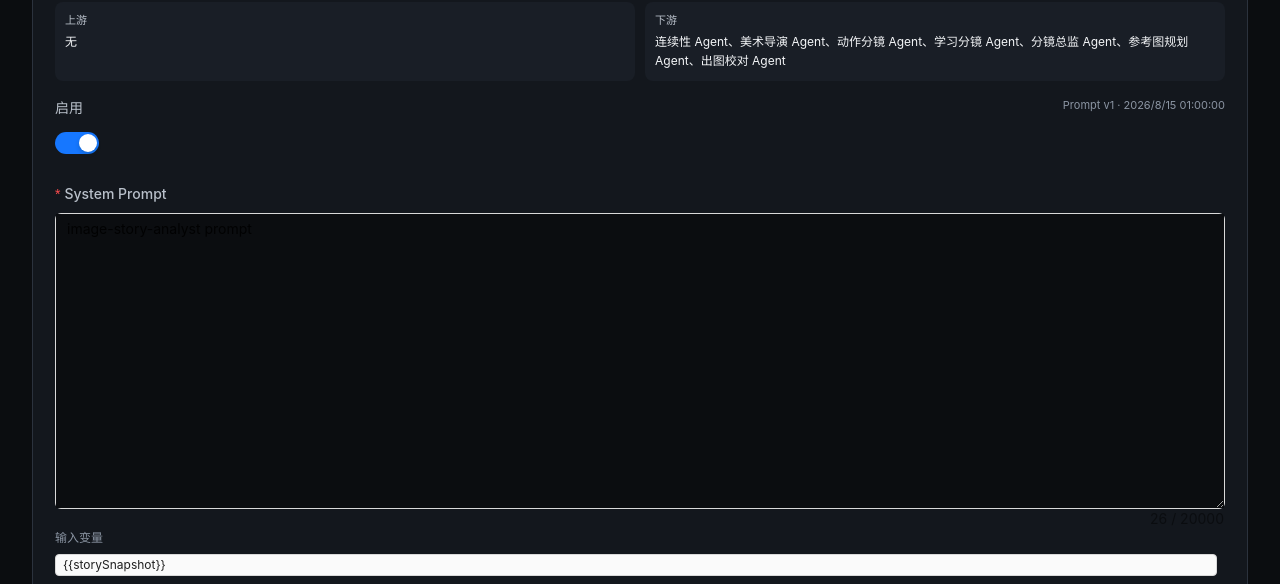
it: ImageAgentFlowPage › protects dirty edits when switching tabs and discards only after confirmation
(page scrolled)
In the text box named "System Prompt": (640, 360) 56,214 -> 1224,508, type " changed"
(page scrolled)
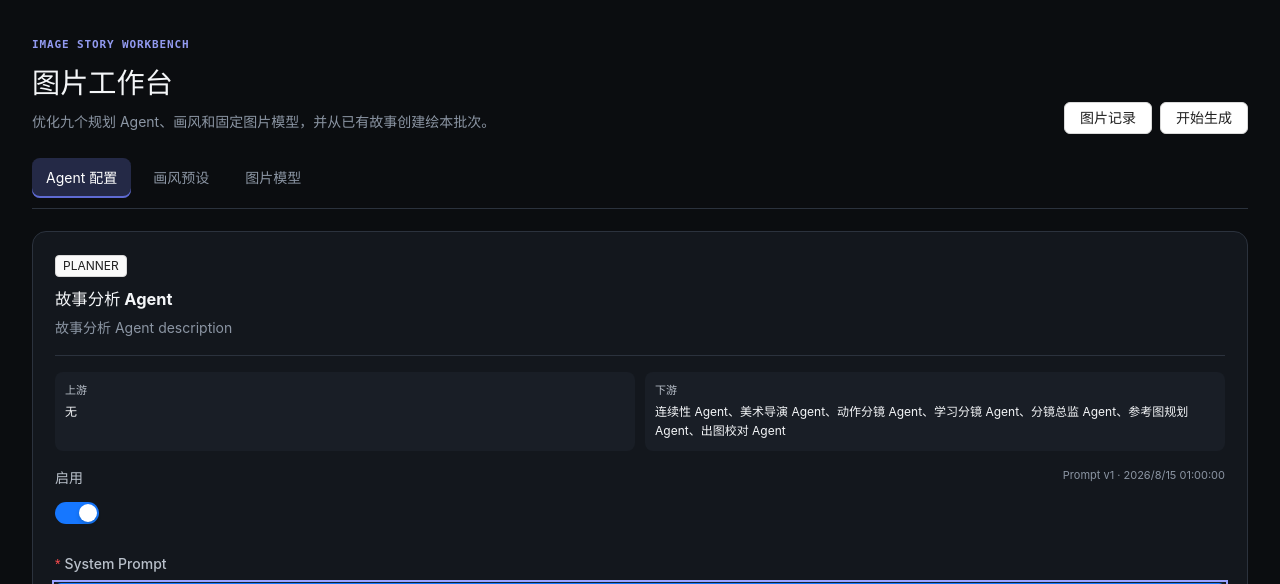
Click the tab "画风预设": (181, 178) 139,158 -> 223,198
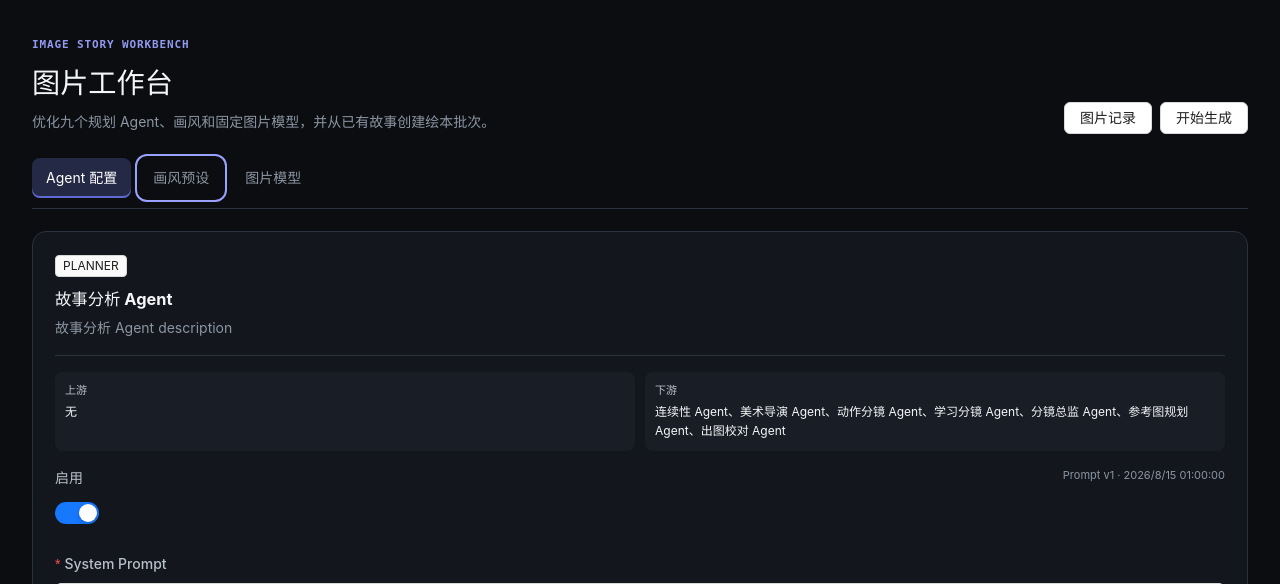
Click the tab "画风预设": (181, 178) 139,158 -> 223,198
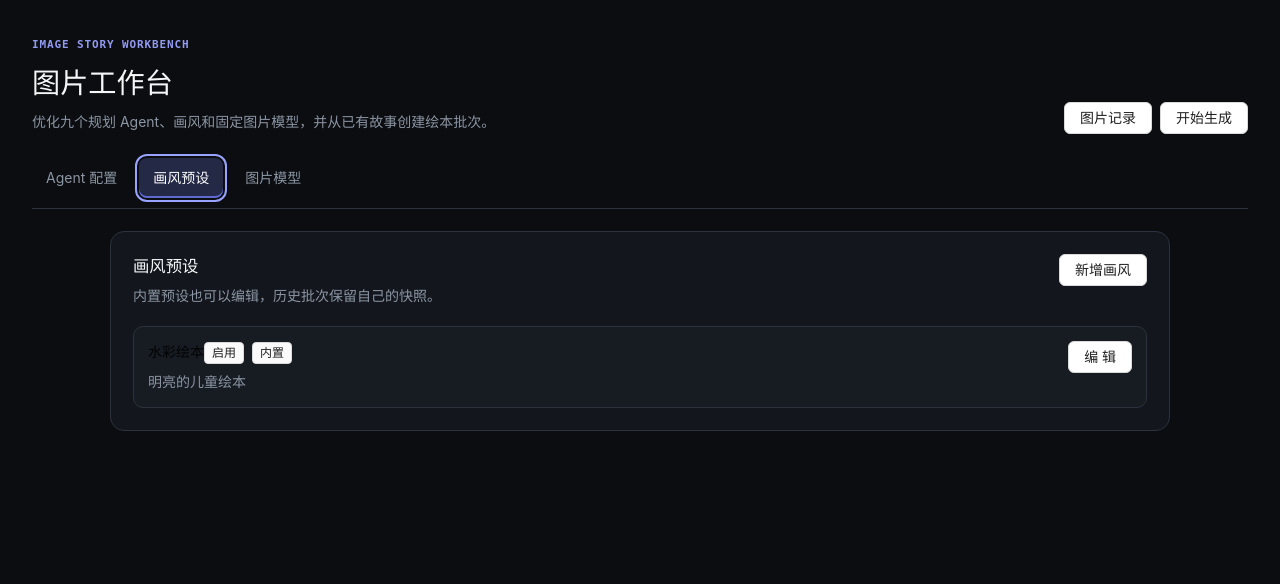
Expected: the heading "画风预设" is shown, 133,256 -> 198,276
